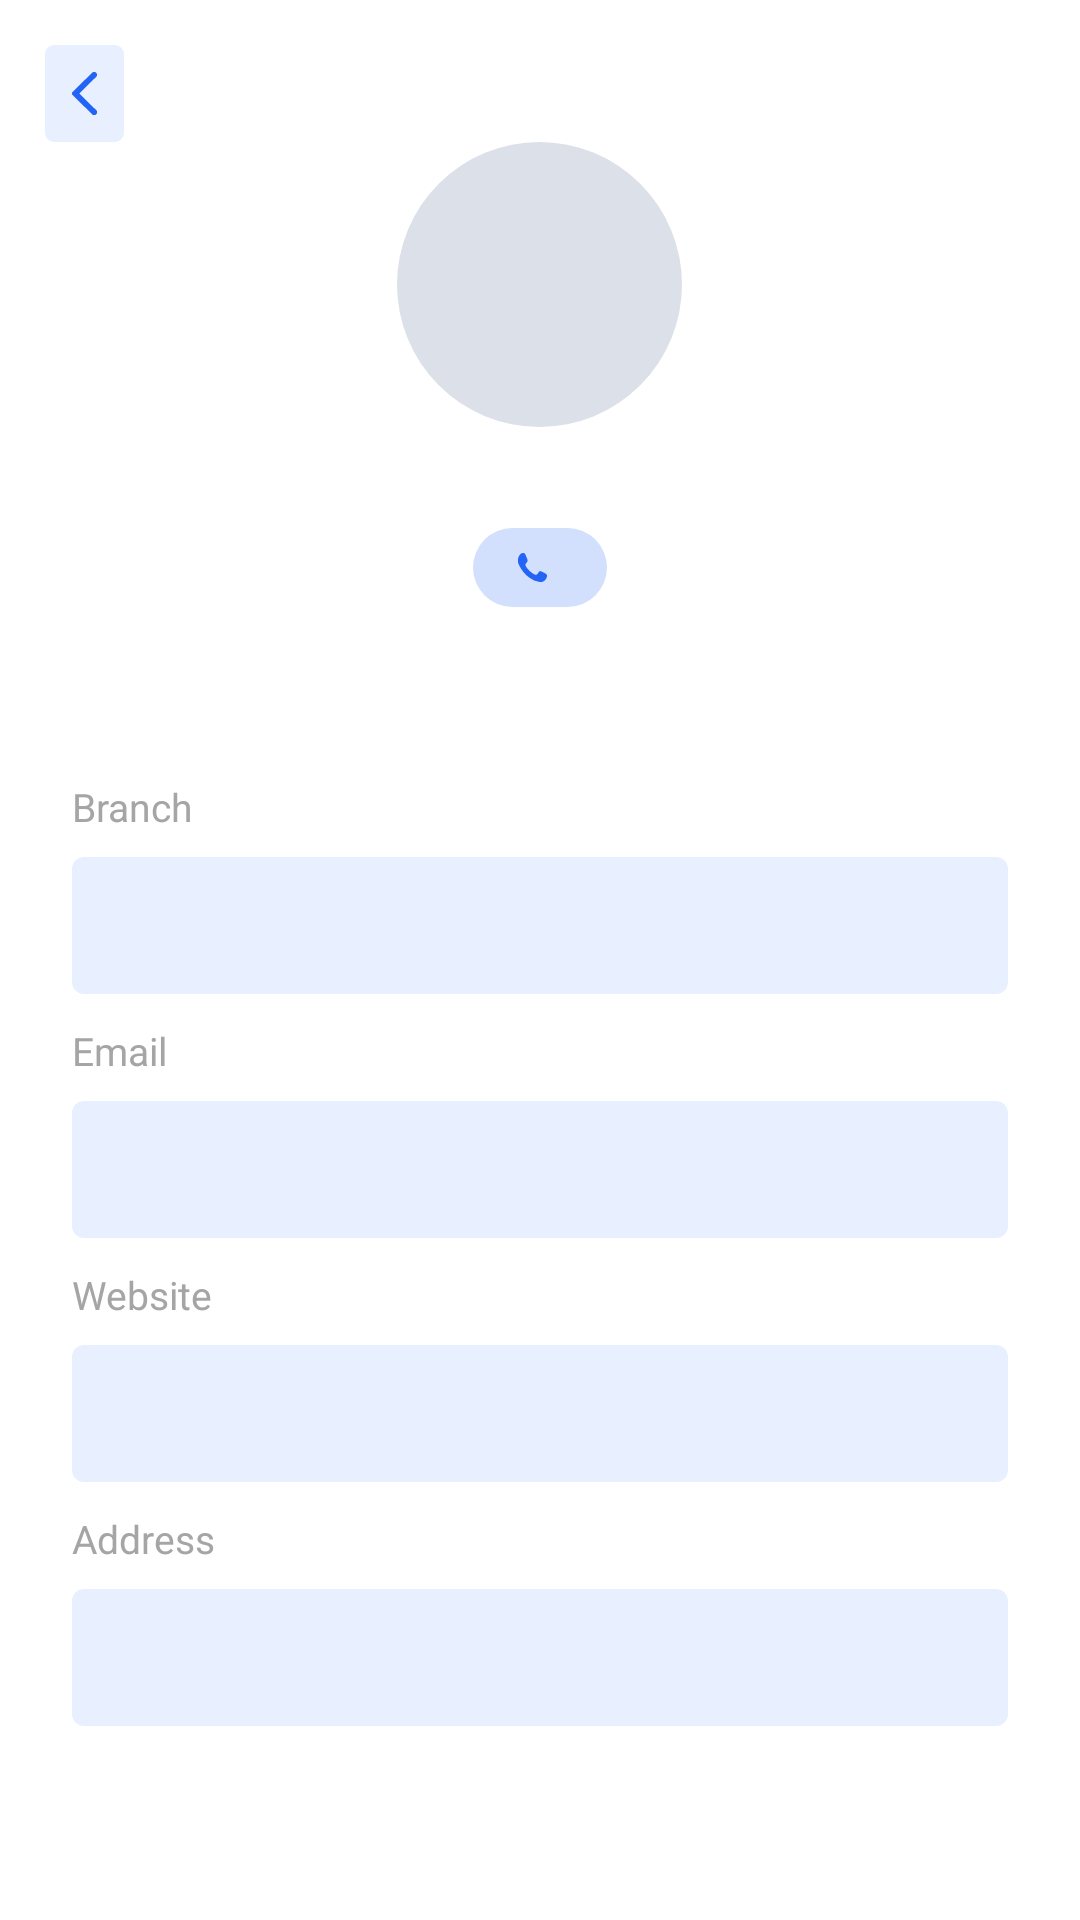

Icon click points for this 1080px×1920px phone screenshot, format [x,y]:
back: [84,93]
